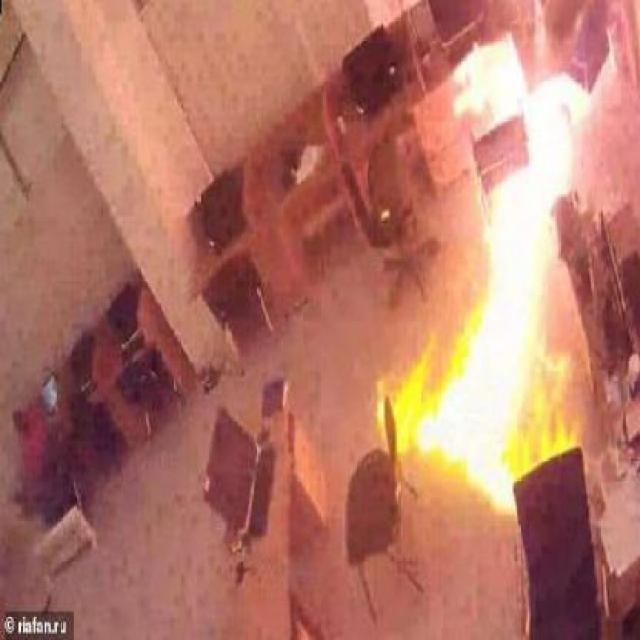Fire: (480, 188, 549, 346), (522, 79, 592, 187), (463, 348, 529, 452), (457, 33, 523, 121), (466, 451, 522, 520), (439, 383, 467, 443), (417, 422, 443, 450), (504, 168, 532, 190), (438, 454, 464, 472)
